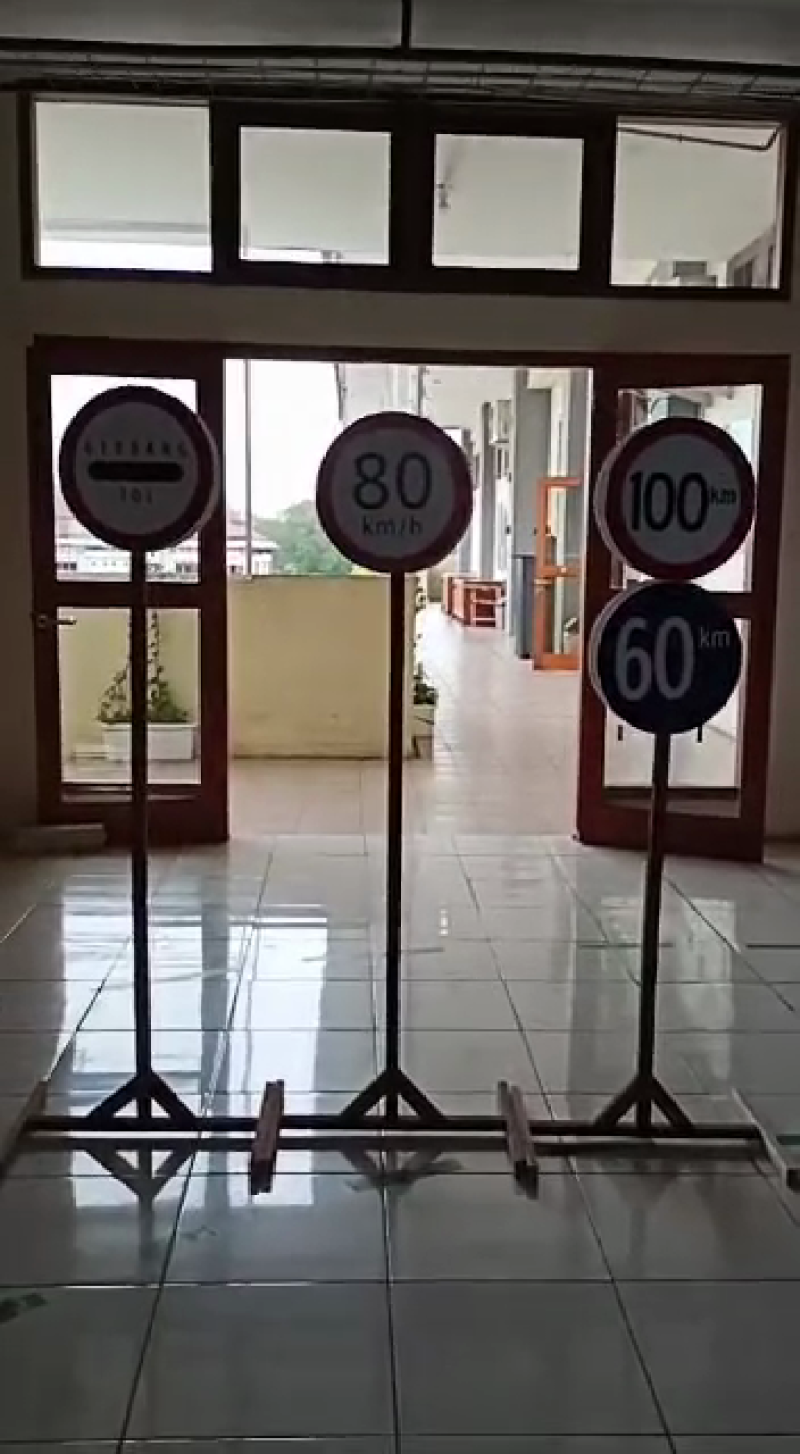batas maksimal 100kmperjam minimal 60kmperjam: (587, 414, 755, 746)
batas maksimal 80kmperjam: (311, 401, 479, 590)
gerbang tol: (53, 381, 226, 570)
